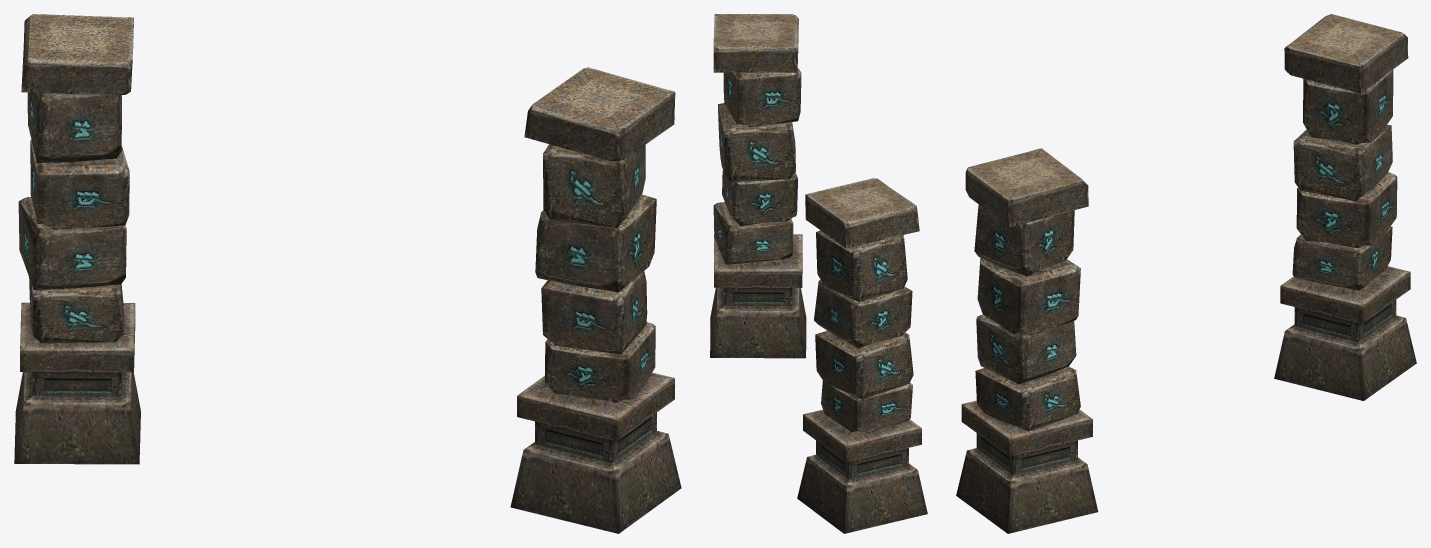
The model's file is miniboss_07.fbx.
3 renders of one model, left to right at view 1: azimuth 30°, elevation 25°; view 2: azimuth 150°, elevation 25°; view 3: azimuth 270°, elevation 25°, orthographic. The views are drawn at different scales.
Parts seen in each view (by area): view 1: miniboss_07; view 2: miniboss_07; view 3: miniboss_07.
Boxes of the visible parts, box(x1,y1,x2,y2) form: miniboss_07: box(14, 14, 681, 533); miniboss_07: box(710, 14, 927, 533); miniboss_07: box(956, 14, 1416, 533).
Size of the model in its own units: 49.35 by 39.74 by 49.76.
